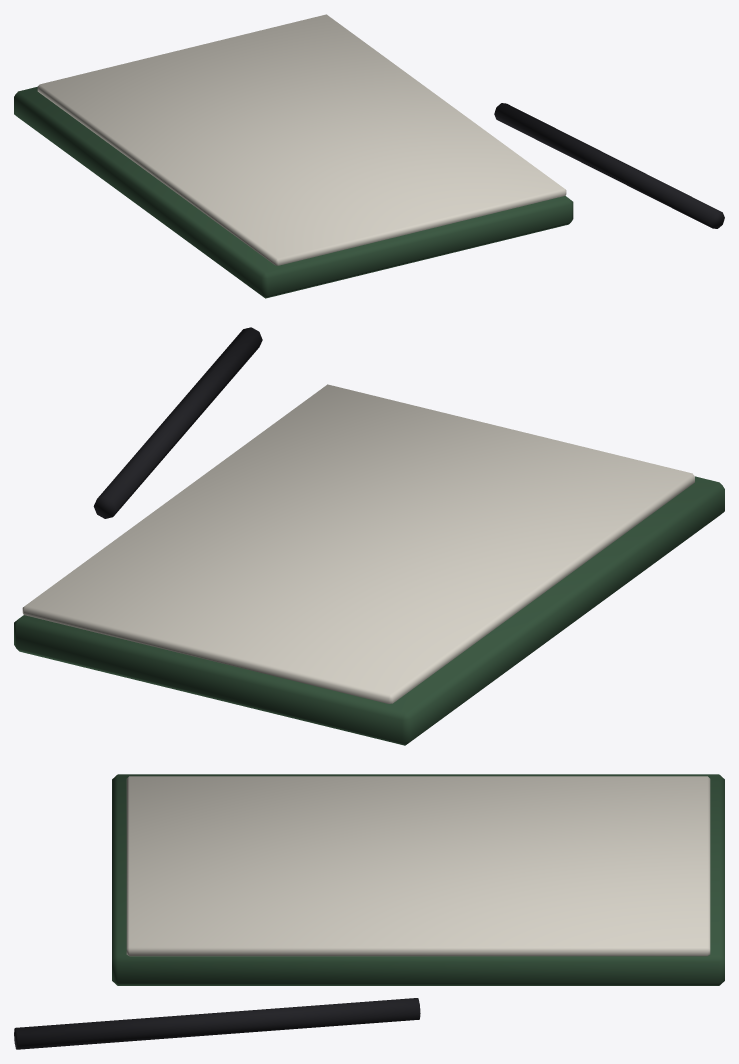
File: SM_MB_Notebook.fbx
3 views of the same model, one above another, from view 1: azimuth 30°, elevation 25°; view 2: azimuth 150°, elevation 25°; view 3: azimuth 270°, elevation 25° (orthographic). The views are drawn at different scales.
Visible parts, largest first — view 1: SM_MB_Notebook; view 2: SM_MB_Notebook; view 3: SM_MB_Notebook.
Part boxes in pixels (left/top/right/bottom): SM_MB_Notebook: left=14, top=14, right=724, bottom=298; SM_MB_Notebook: left=14, top=327, right=724, bottom=745; SM_MB_Notebook: left=14, top=774, right=724, bottom=1049.
Size of the model in its own units: 0.2032 by 0.2436 by 0.015.
